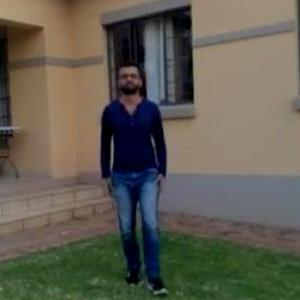follow: (99, 54, 165, 254)
